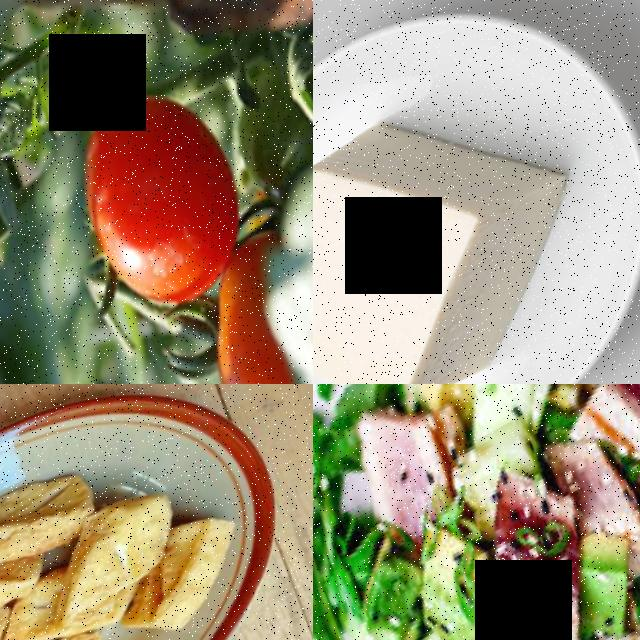tofu: (313, 37, 640, 384), (33, 489, 195, 633), (101, 498, 263, 640), (0, 457, 108, 601)
tomato: (45, 63, 286, 350)
